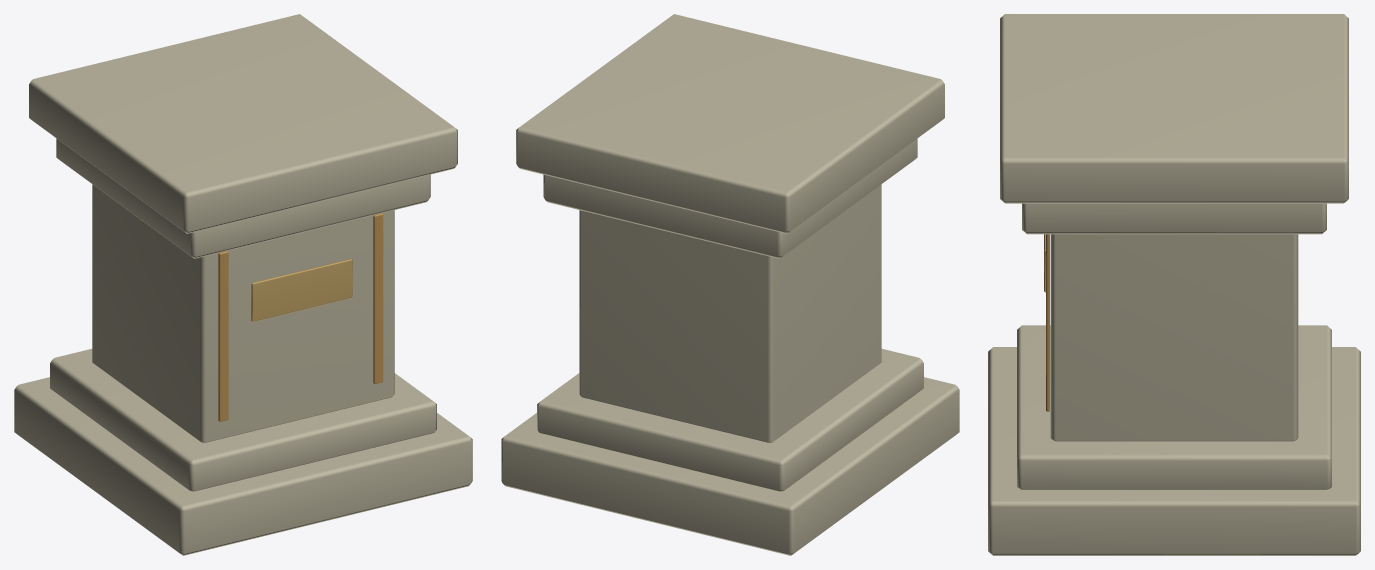
Rendered from S095_treasure_pedestal_rebuilt.glb.
3 renders of one model, left to right at view 1: azimuth 30°, elevation 25°; view 2: azimuth 150°, elevation 25°; view 3: azimuth 270°, elevation 25°, orthographic. The views are drawn at different scales.
Visible parts, largest first — view 1: Pedestal_pale_limestone, brass, edge; view 2: Pedestal_pale_limestone; view 3: Pedestal_pale_limestone, edge.
Part boxes in pixels (box(x1,y1,x2,y2)): Pedestal_pale_limestone: box(14, 14, 472, 555); brass: box(251, 258, 352, 321); edge: box(218, 213, 383, 421); Pedestal_pale_limestone: box(501, 14, 959, 555); Pedestal_pale_limestone: box(988, 14, 1360, 555); edge: box(1046, 234, 1049, 411).
Bounding box in the file's own units: 1.1 × 1.28 × 1.1.
